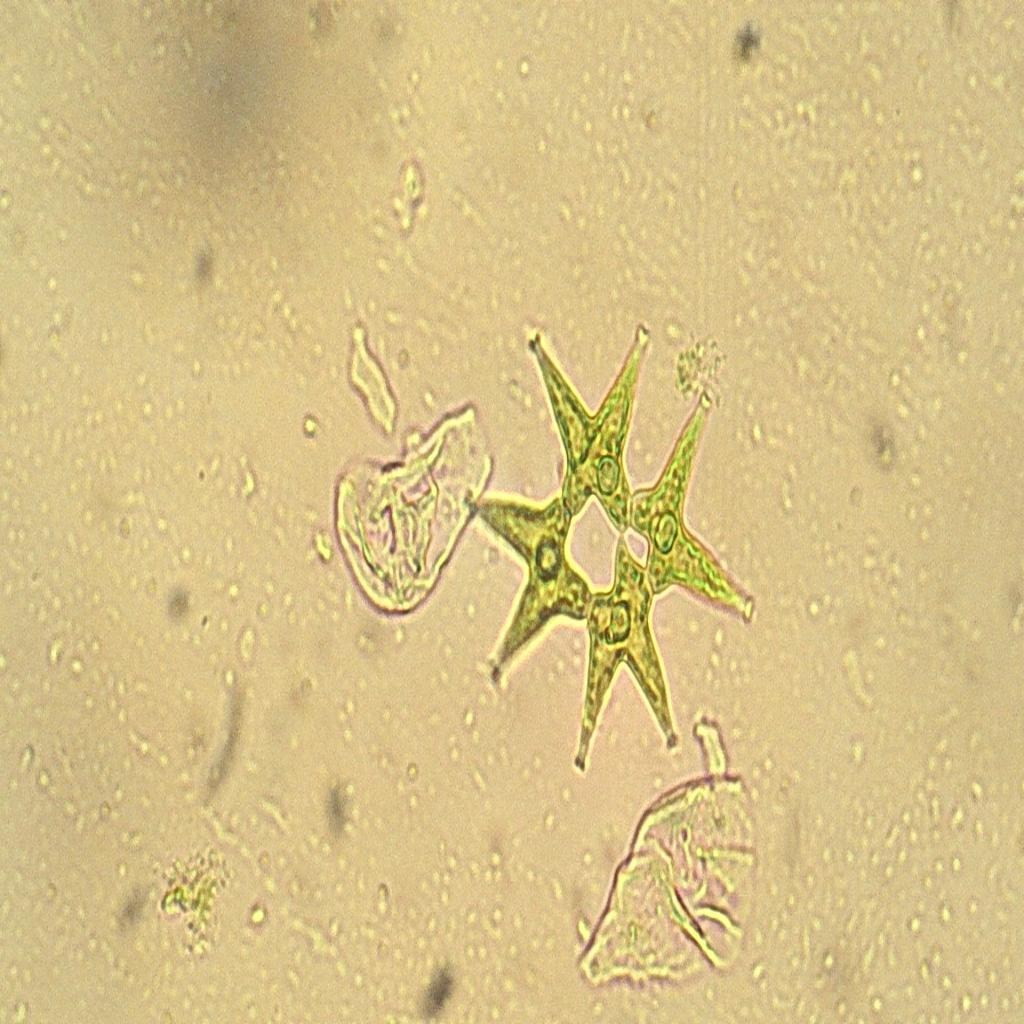Pediastrum_CF: (454, 320, 762, 780)
